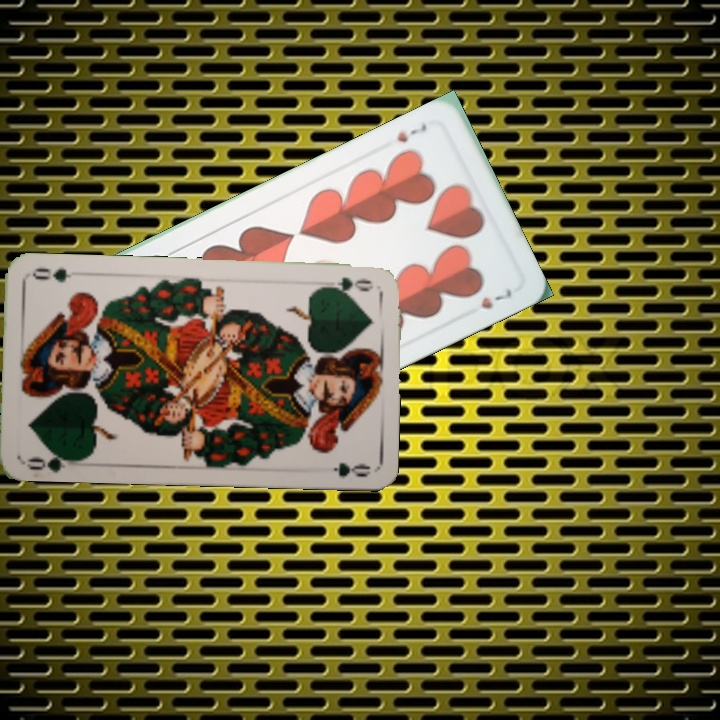GO: (23, 446, 82, 473), (318, 273, 376, 296)
H7: (393, 119, 430, 145)
